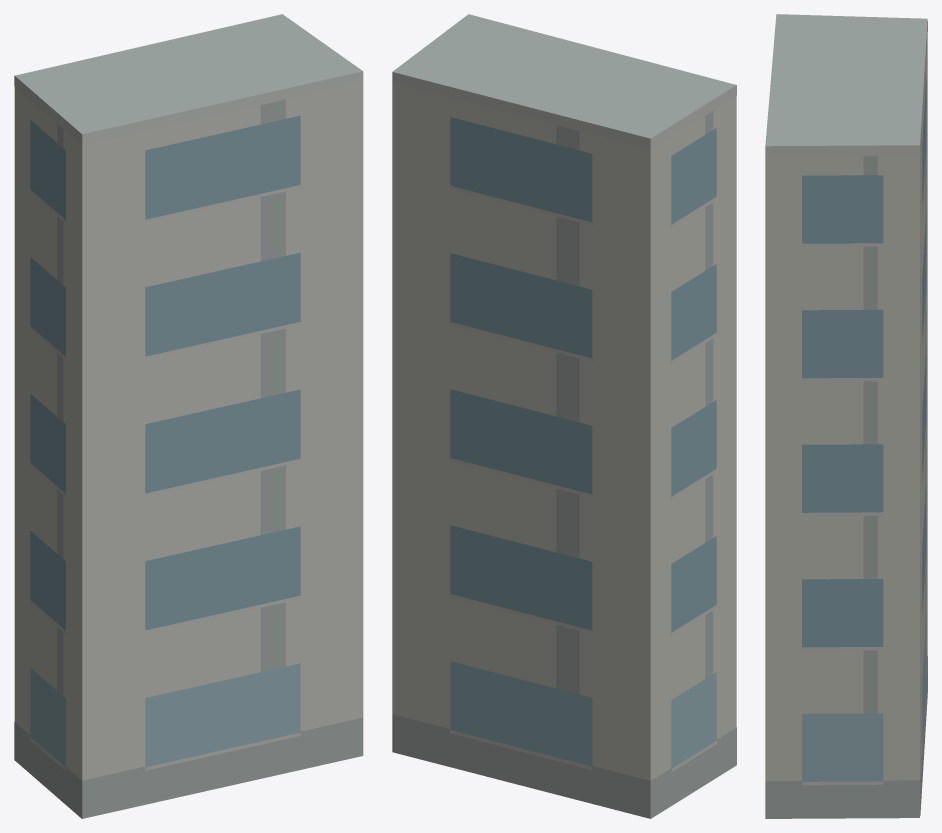
Rendered from survey-upis-32580902.glb.
3 views of the same model, side by side, from view 1: azimuth 30°, elevation 25°; view 2: azimuth 150°, elevation 25°; view 3: azimuth 270°, elevation 25° (orthographic).
Parts seen in each view (by area): view 1: survey-upis-32580902.tmp; view 2: survey-upis-32580902.tmp; view 3: survey-upis-32580902.tmp.
Part boxes in pixels (x1,y1,x2,y2): survey-upis-32580902.tmp: (14, 14, 363, 818); survey-upis-32580902.tmp: (392, 14, 736, 818); survey-upis-32580902.tmp: (765, 14, 927, 818).
Size of the model in its own units: 6.43 by 15.25 by 3.35.
